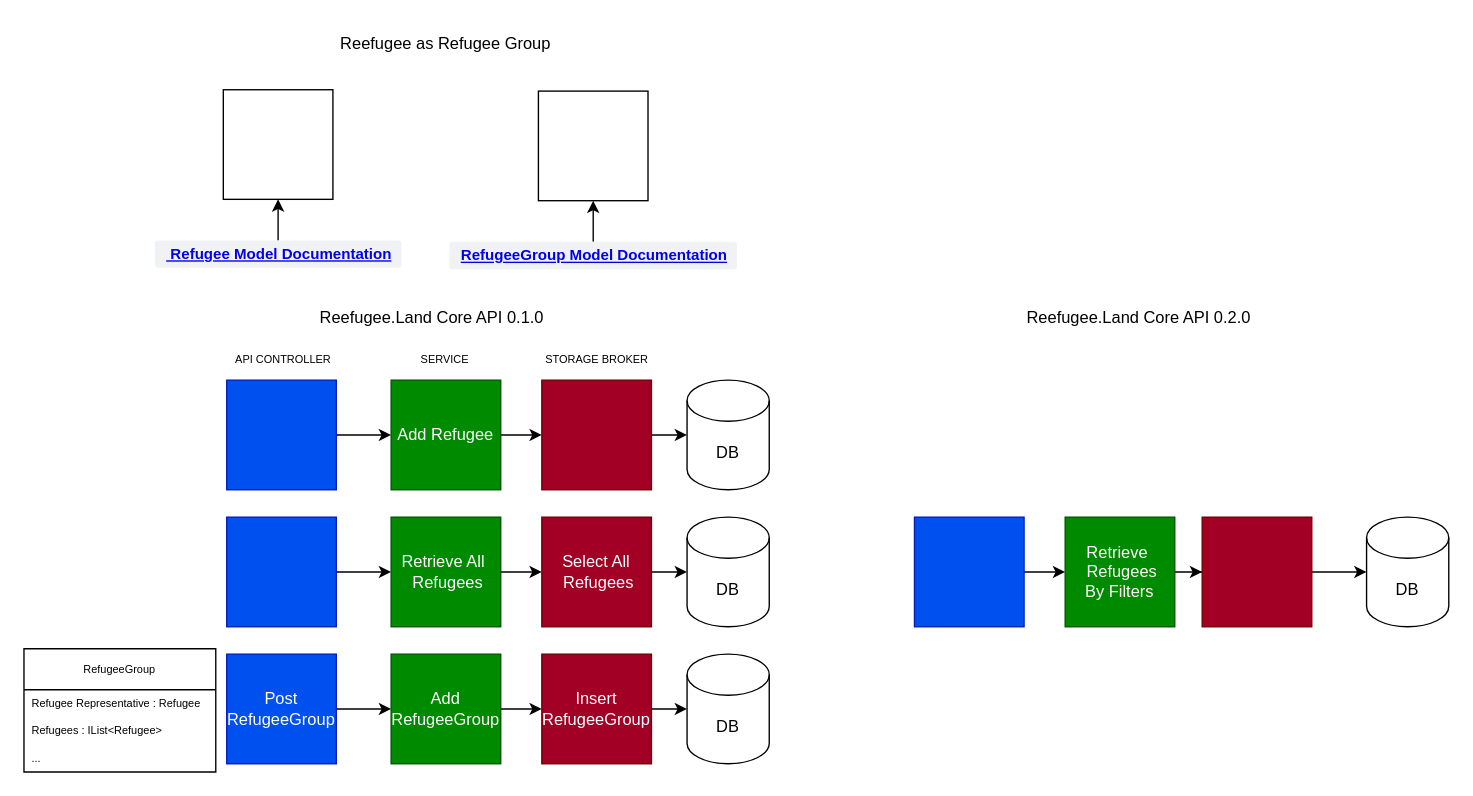
Image size: 1473x796. Some labels were removed from this diagram. The centre of each missing label's shape, as x and y in pixels:
"Get All Refugees" belongs at pixel 280 571.
"Get Refugees By Filters" belongs at pixel 968 571.
"Insert Refugee" belongs at pixel 595 434.
"Post Refugee" belongs at pixel 280 434.
"Refugee" belongs at pixel 277 143.
"Refugee Group" belongs at pixel 592 145.
"Select Refugees By Filters" belongs at pixel 1256 571.
